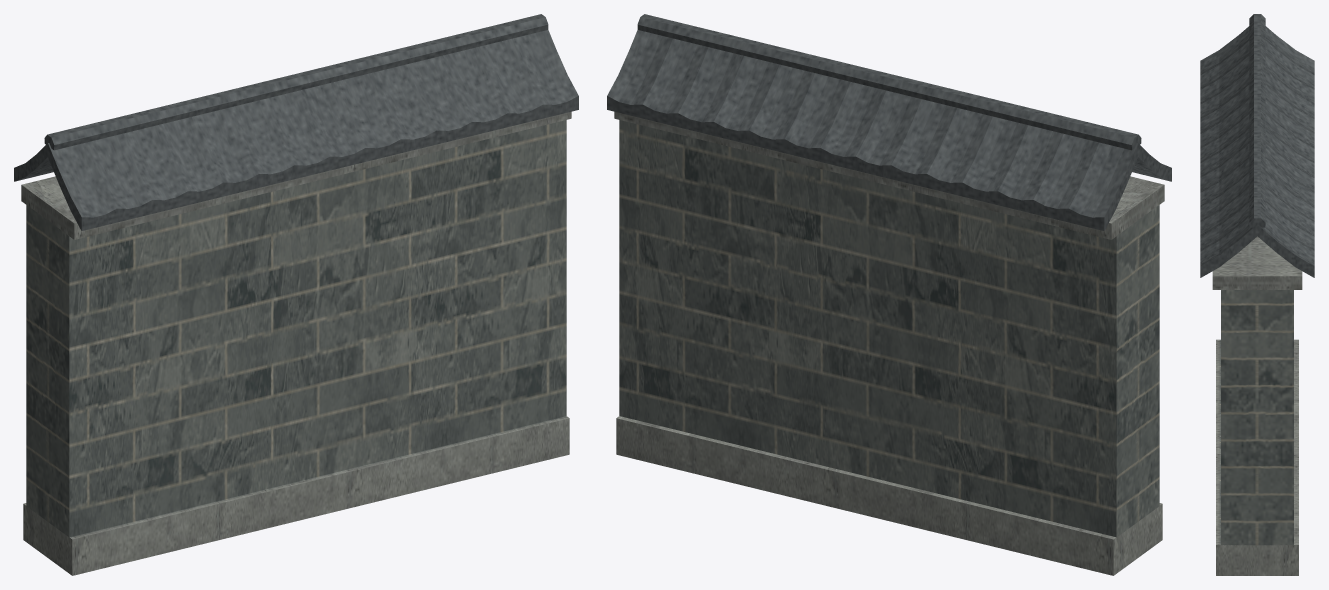
The model's file is WallStraight_LOD0.fbx.
3 views of the same model, side by side, from view 1: azimuth 30°, elevation 25°; view 2: azimuth 150°, elevation 25°; view 3: azimuth 270°, elevation 25° (orthographic). The views are drawn at different scales.
Visible parts, largest first — view 1: WallStraight; view 2: WallStraight; view 3: WallStraight.
Boxes of the visible parts, <box> form: WallStraight: <box>14,14,578,575</box>; WallStraight: <box>607,14,1171,575</box>; WallStraight: <box>1200,14,1314,575</box>.
Size of the model in its own units: 2 by 1.62 by 0.47.
1 material, 1 textured.
